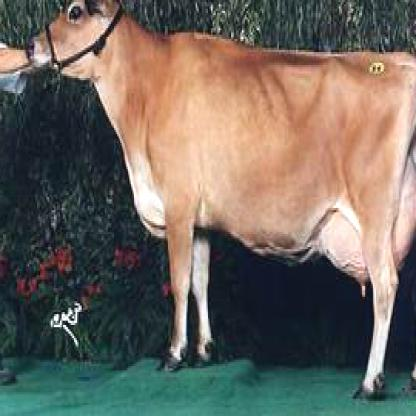cow: (24, 0, 415, 400)
